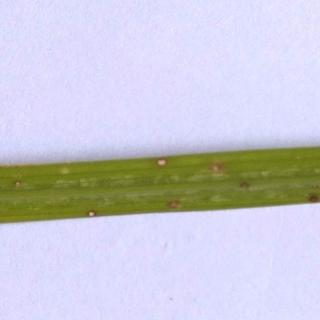Blast: (49, 159, 320, 211)
